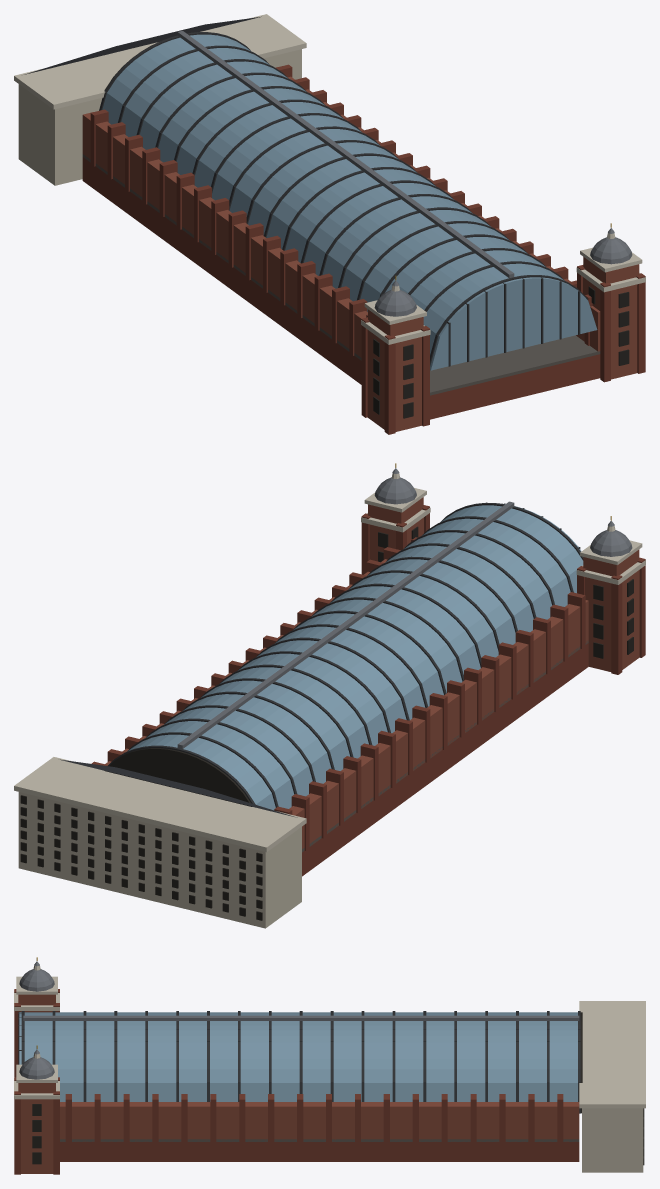
File: cannon_street_station.glb
3 renders of one model, top to bottom at view 1: azimuth 30°, elevation 25°; view 2: azimuth 150°, elevation 25°; view 3: azimuth 270°, elevation 25°, orthographic. The views are drawn at different scales.
Visible parts, largest first — view 1: cannon_street_station; view 2: cannon_street_station; view 3: cannon_street_station.
Part boxes in pixels (left/top/right/bottom): cannon_street_station: left=14, top=14, right=645, bottom=434; cannon_street_station: left=14, top=463, right=645, bottom=928; cannon_street_station: left=14, top=957, right=645, bottom=1174.
Bounding box in the file's own units: 89.6 × 47.9 × 227.
